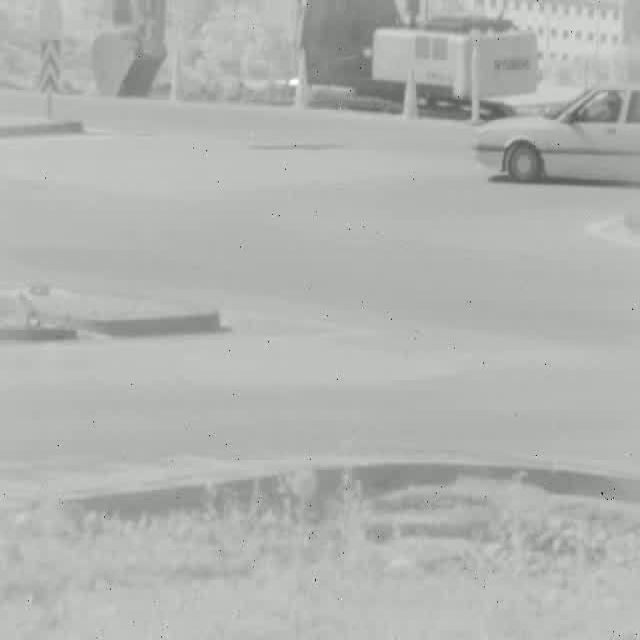Car: (473, 80, 640, 185)
